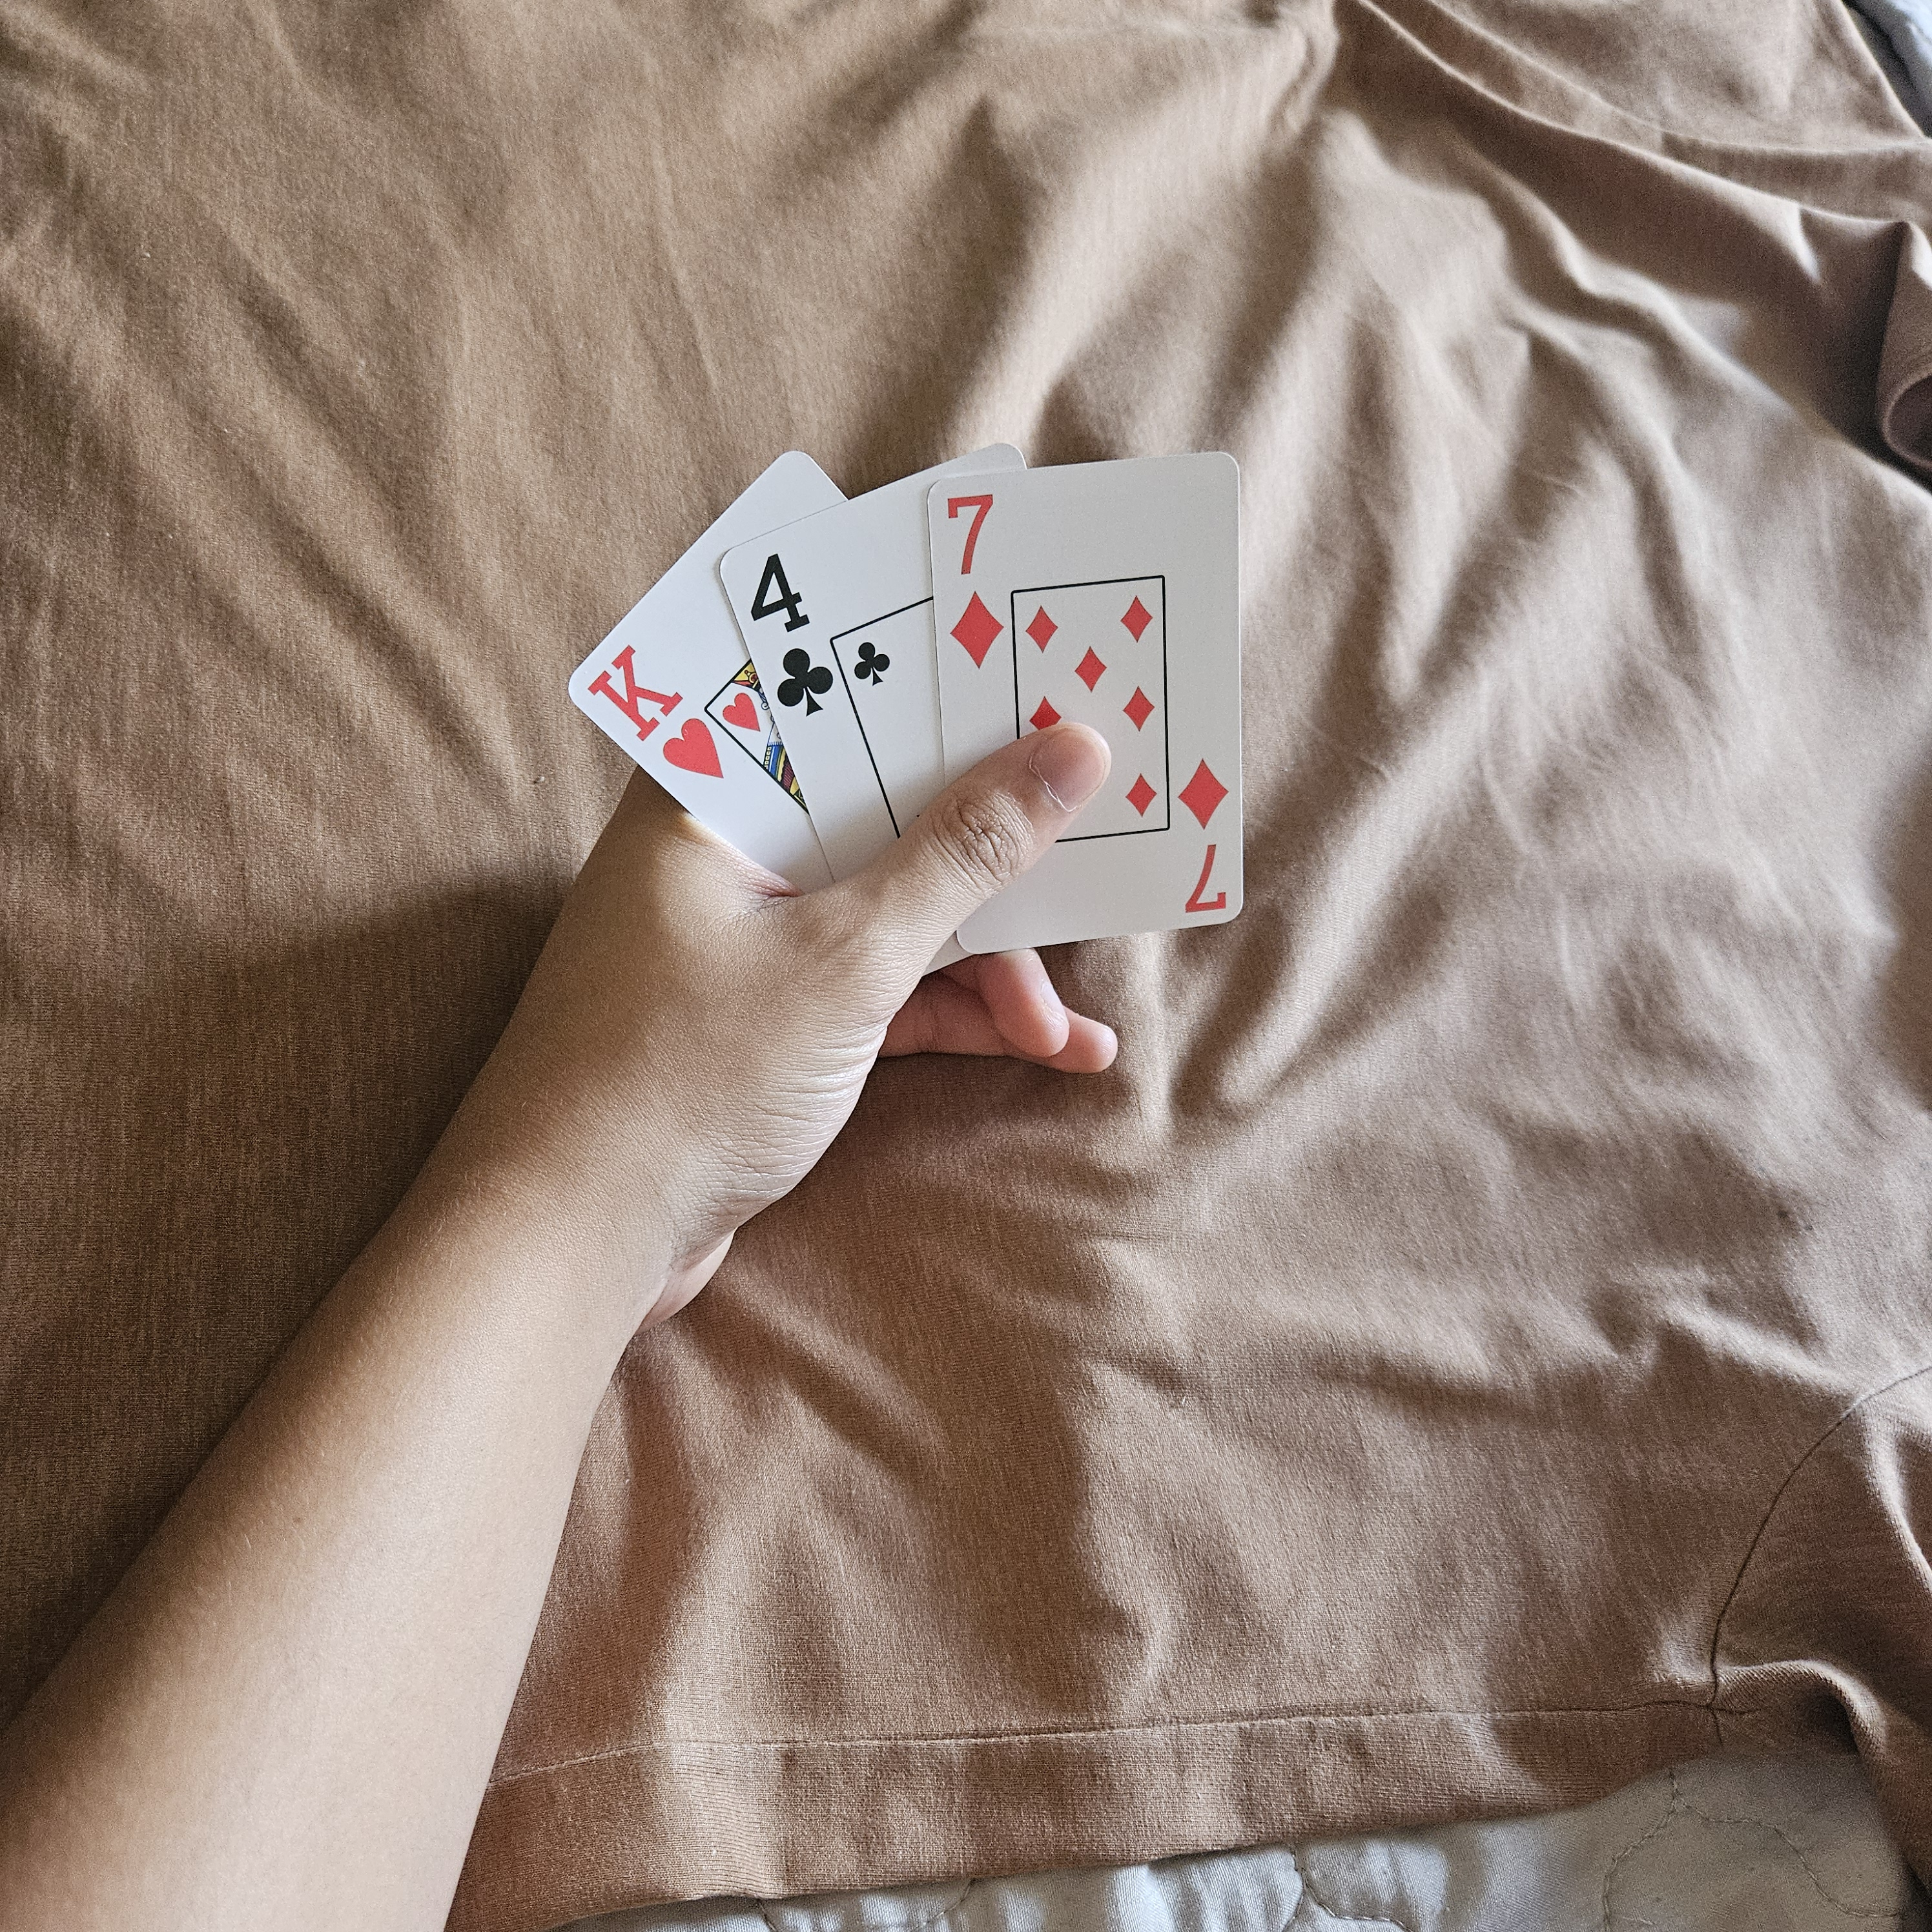4P: (741, 540, 847, 724)
7O: (932, 476, 1019, 685), (1162, 741, 1249, 929)
KC: (579, 633, 732, 796)
